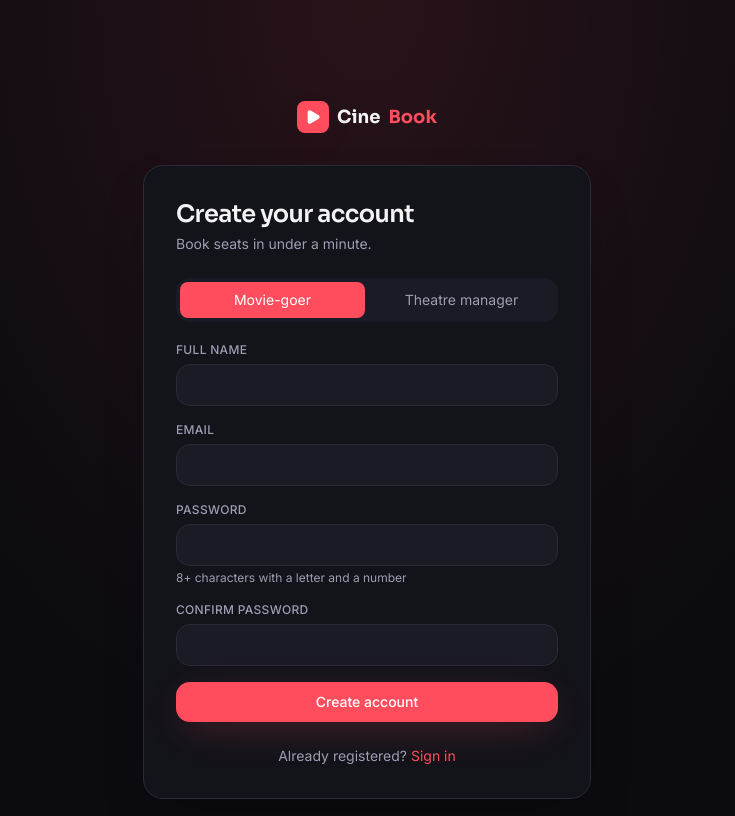
Test case: auth forms › manager registration tab changes the submit action and never offers a role field
The image size is (735, 816).
Click the tab "Theatre manager" at [462, 300], box 369,282 -> 554,318
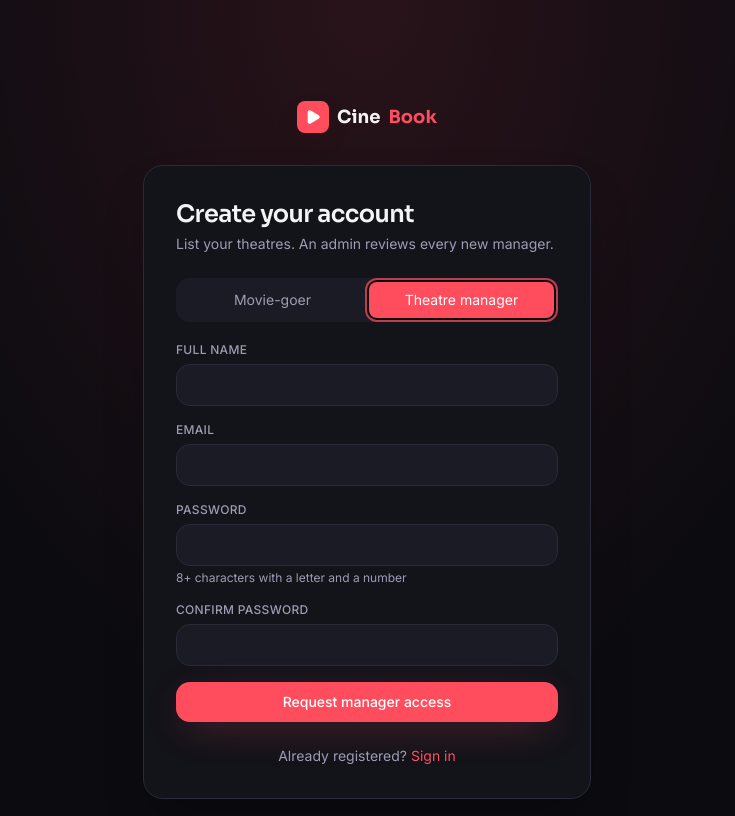
Check: the button "Request manager access" is shown, box 176,682 -> 558,722
